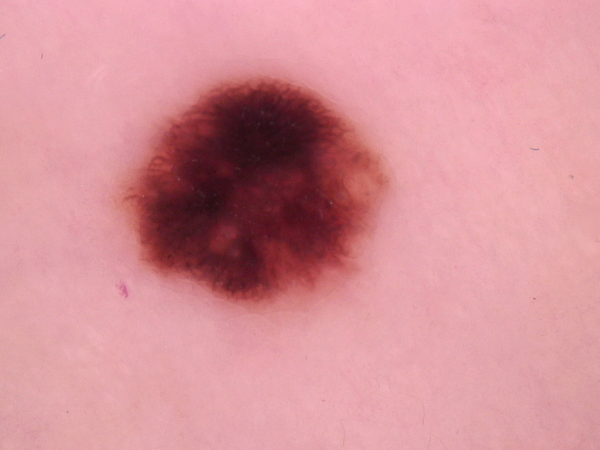Detected Lesion: (116, 68, 402, 310)
